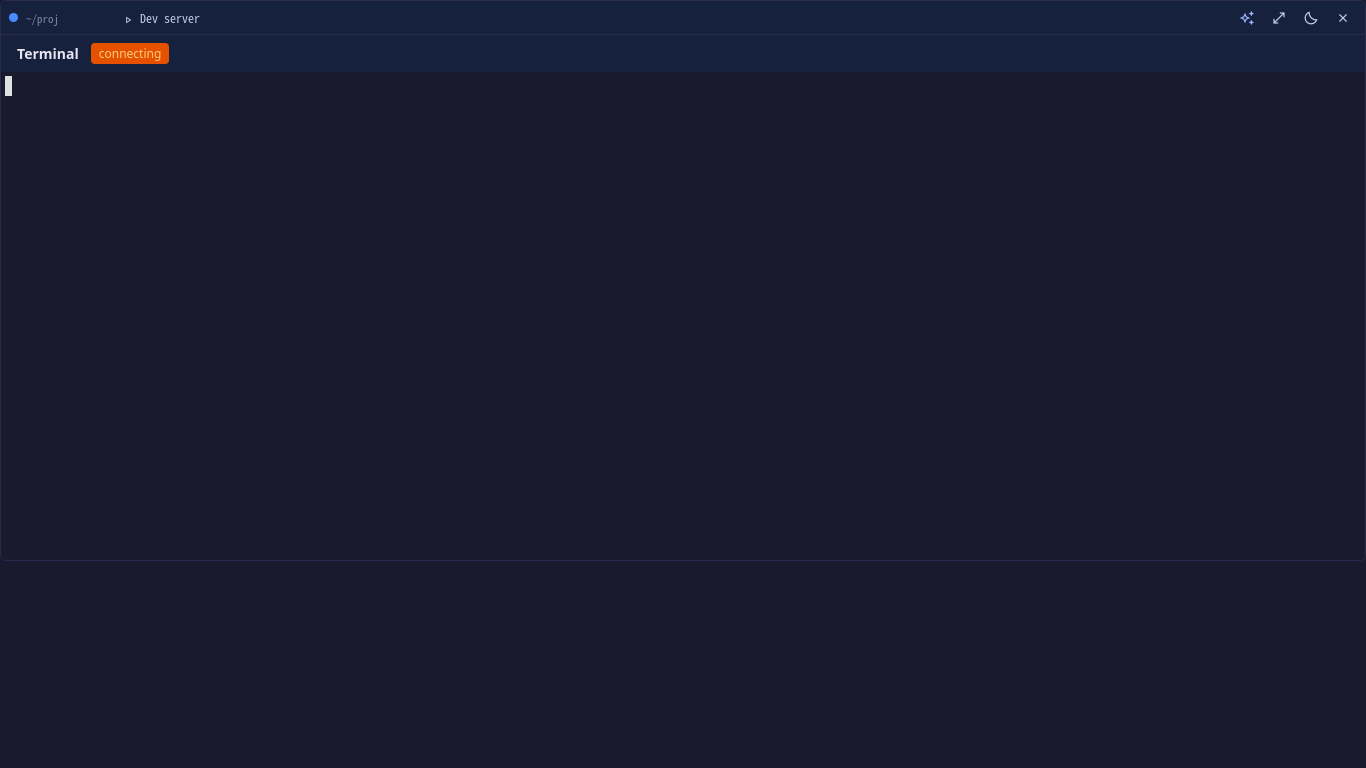
Test: CommandCell summarize › copies the command + summary as a prompt to the clipboard
The image size is (1366, 768).
Click the button named "Summarize command output" at {"x": 1247, "y": 18}, box [1233, 4, 1261, 30]
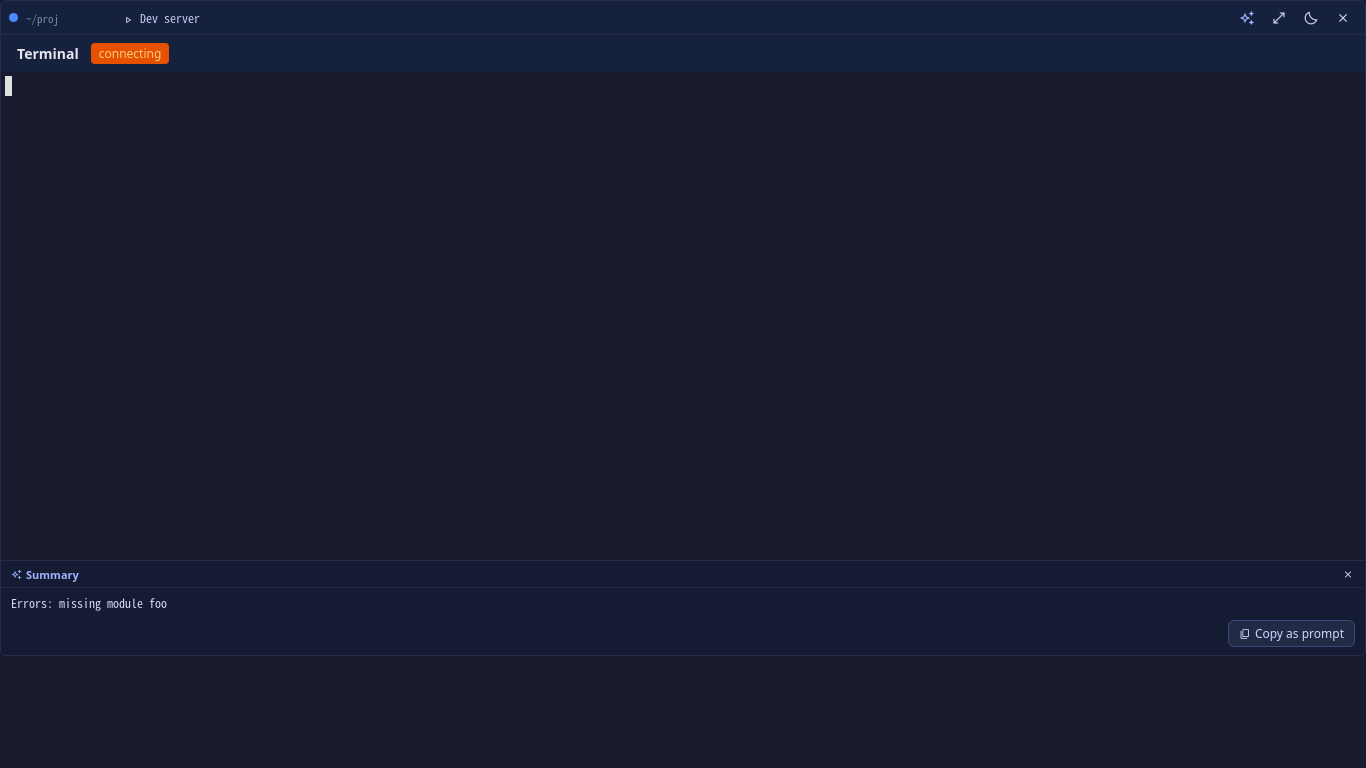
Click the button with test id "cell-summary-continue" at {"x": 1291, "y": 634}, box [1228, 620, 1355, 647]
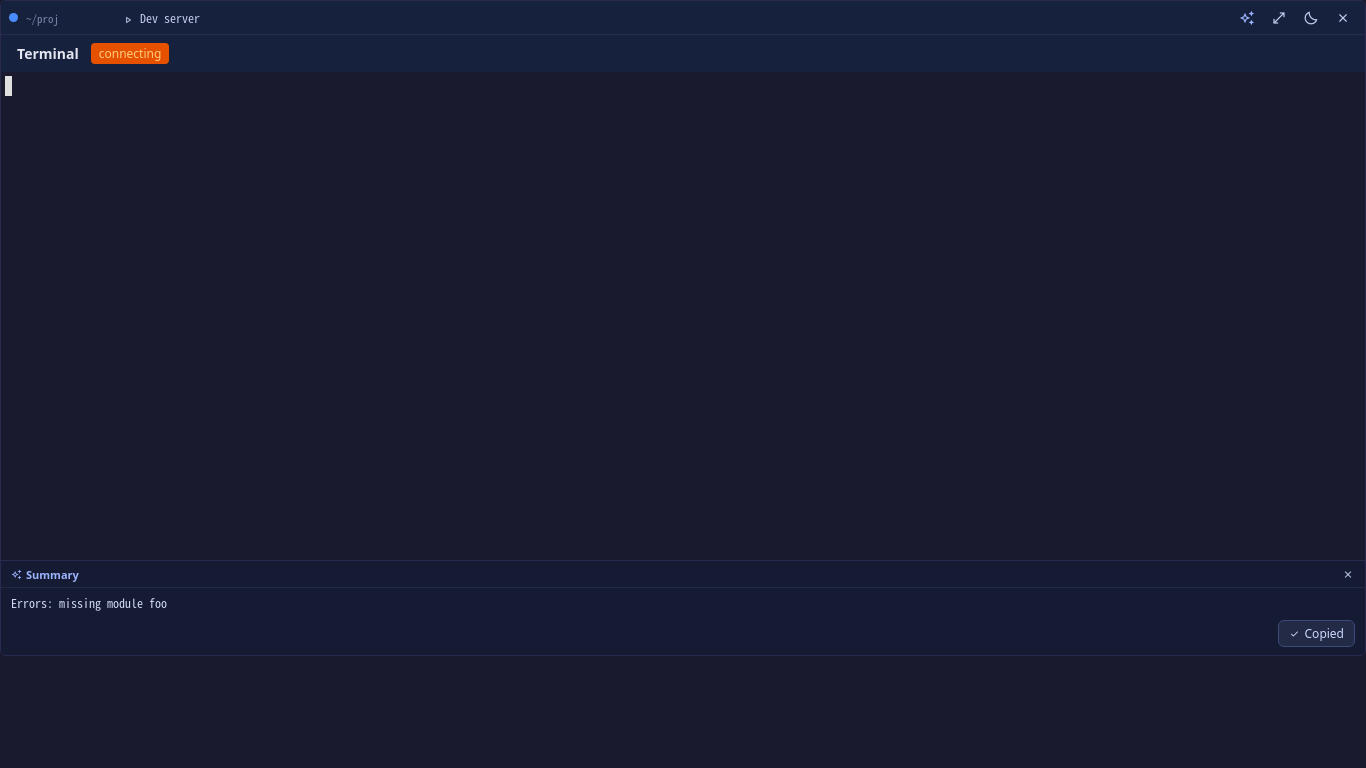
Now the button with test id "cell-summary-continue" reads "Copied", box [1278, 620, 1355, 647]
